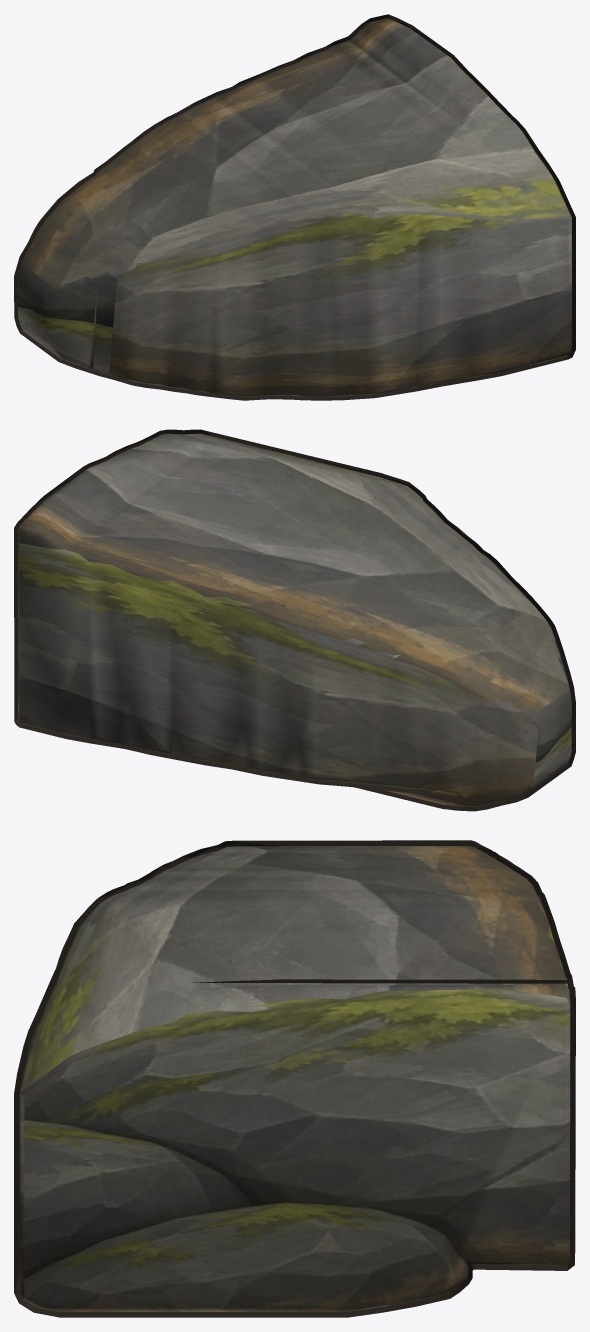
The model's file is galets_de_rive.glb.
The picture shows the model from 3 angles, top to bottom: view 1: azimuth 30°, elevation 25°; view 2: azimuth 150°, elevation 25°; view 3: azimuth 270°, elevation 25°; orthographic projection. The views are drawn at different scales.
Visible parts, largest first — view 1: galets_de_rive, galets_de_rive_outline; view 2: galets_de_rive, galets_de_rive_outline; view 3: galets_de_rive, galets_de_rive_outline.
Part boxes in pixels (x1,y1,x2,y2): galets_de_rive: (18, 18, 571, 396); galets_de_rive_outline: (14, 14, 575, 400); galets_de_rive: (18, 433, 571, 807); galets_de_rive_outline: (14, 429, 575, 811); galets_de_rive: (19, 846, 570, 1311); galets_de_rive_outline: (14, 840, 575, 1317).
Size of the model in its own units: 1.79 by 0.9185 by 1.36.
Materials: 2 (1 with a texture image).
